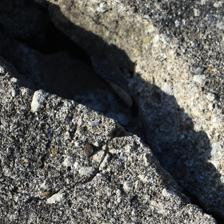Crack: (22, 6, 190, 212)
